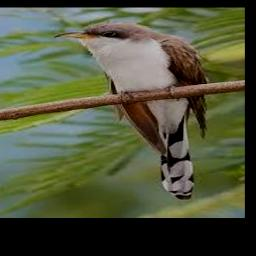Cuckoo: (54, 22, 209, 200)
